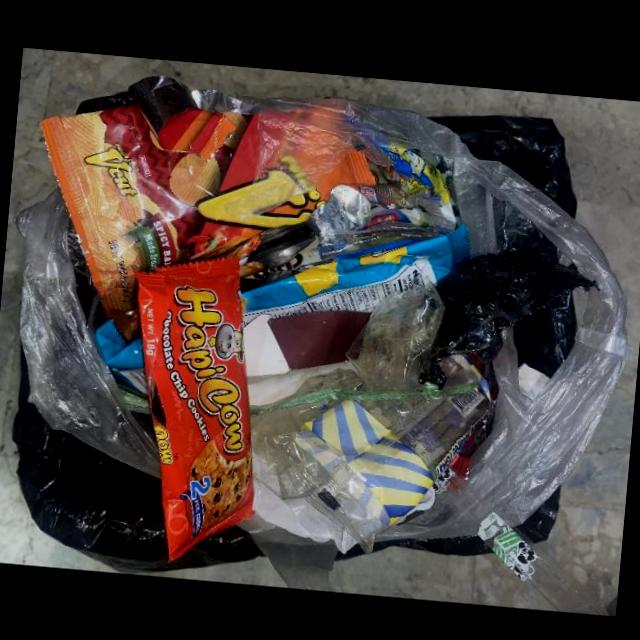bao_bi_thuc_pham: (38, 75, 375, 320), (94, 223, 470, 399), (265, 352, 491, 554), (134, 255, 254, 563), (348, 141, 455, 230)
tui_ni_long: (345, 285, 442, 433)
